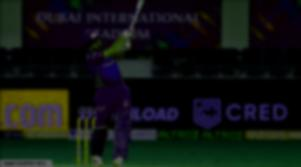batsman: (76, 3, 139, 167)
